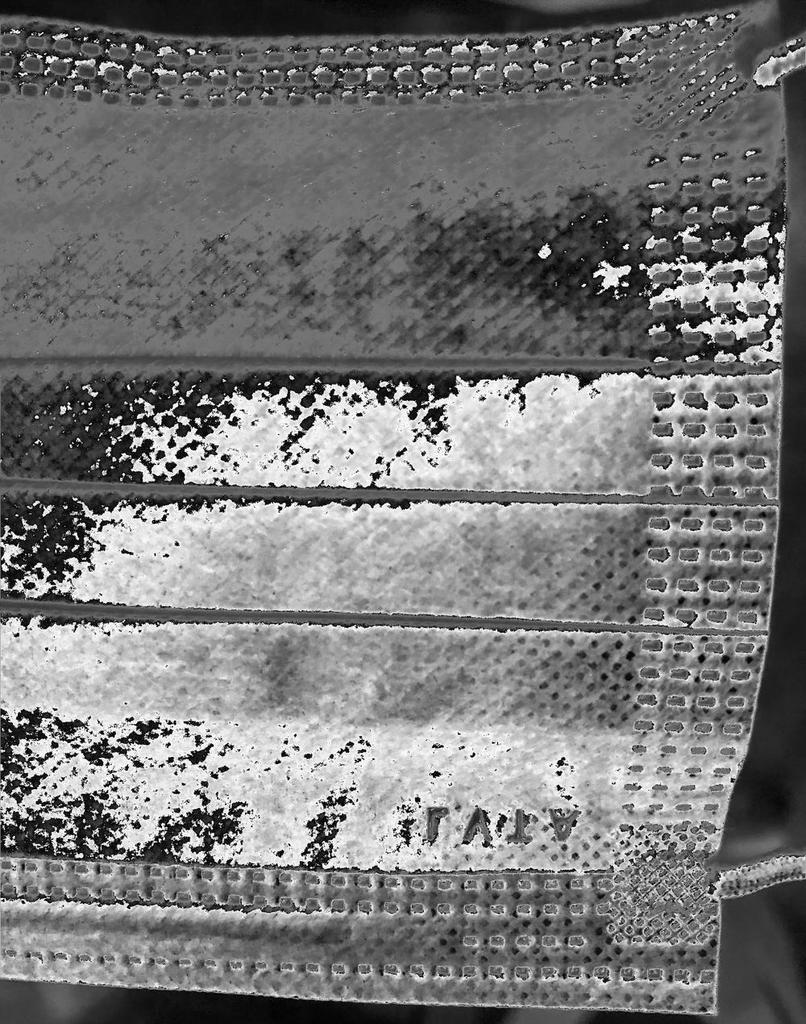High GSM: (8, 364, 650, 870)
